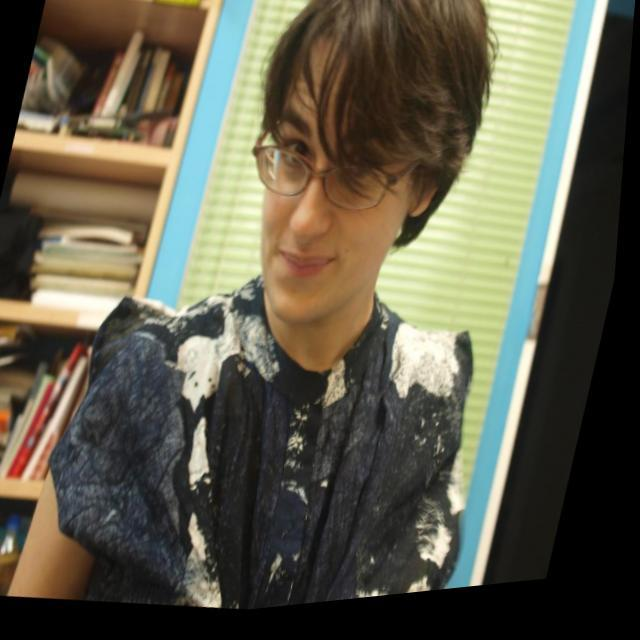Nonhelmet: (242, 0, 501, 326)
